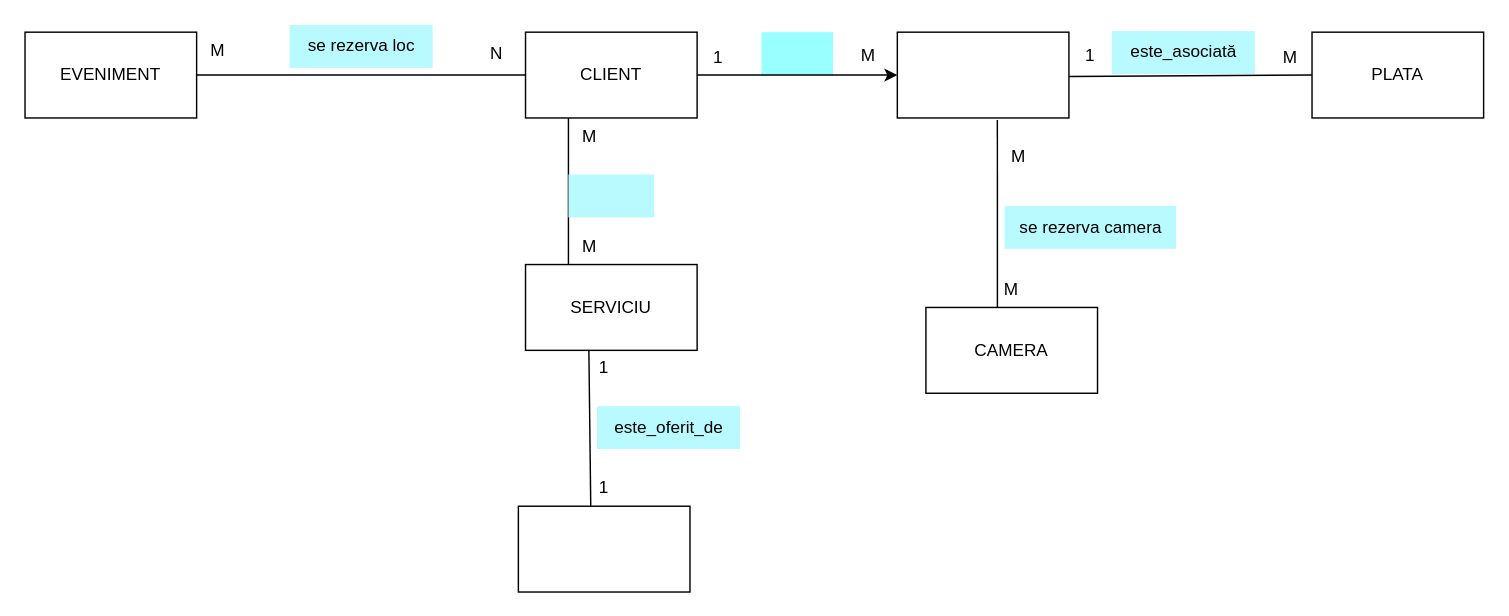
This 1509x616 diagram has some shape labels left out. Each missing label, with the centre of its shape:
"ANGAJAT" goes at (603,548).
"face" goes at (796,52).
"REZERVARE" goes at (982,74).
"solicita" goes at (611,195).
